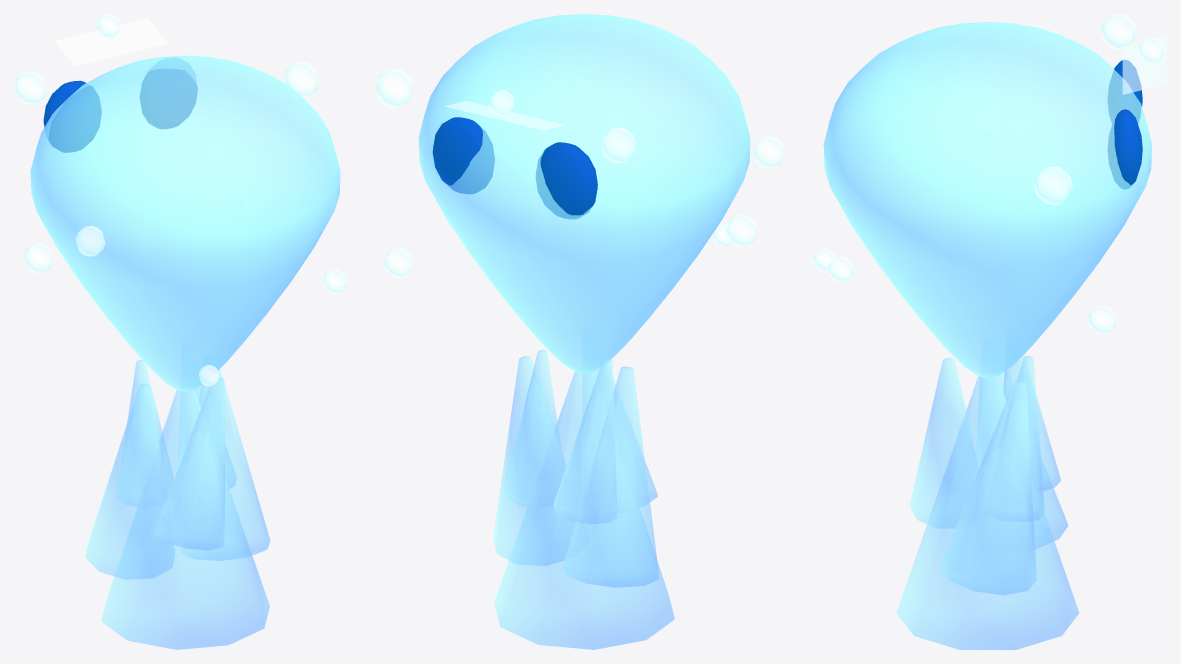
Rendered from dropout_ghost.glb.
3 renders of one model, left to right at view 1: azimuth 30°, elevation 25°; view 2: azimuth 150°, elevation 25°; view 3: azimuth 270°, elevation 25°, orthographic. The views are drawn at different scales.
Visible parts, largest first — view 1: DropoutGhost; view 2: DropoutGhost; view 3: DropoutGhost.
Boxes of the visible parts, <box> form: DropoutGhost: <box>14,14,346,649</box>; DropoutGhost: <box>375,14,784,649</box>; DropoutGhost: <box>813,14,1166,649</box>.
Bounding box in the file's own units: 1.21 × 1.94 × 1.08.
